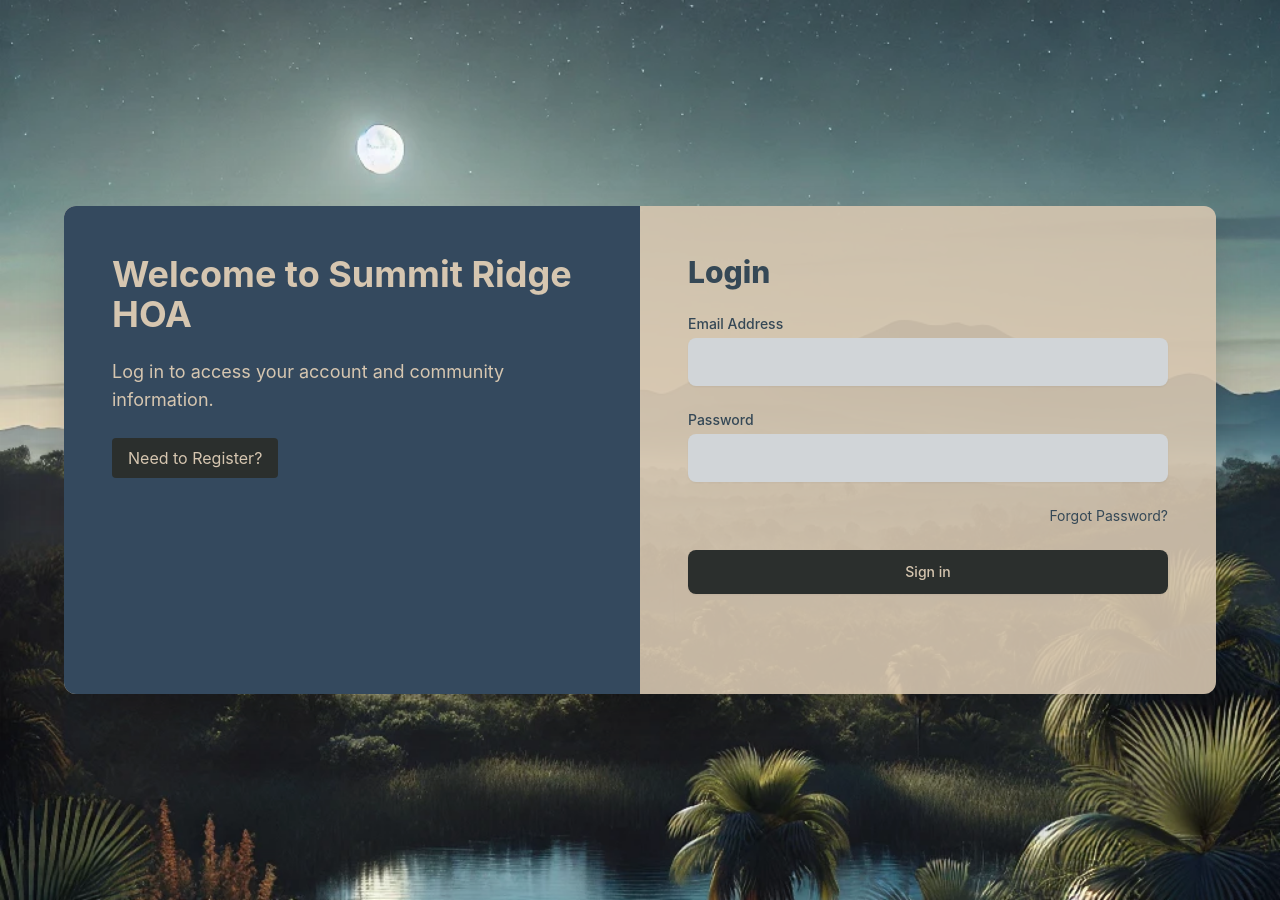
Login Component Tests › HOA-AUTH-IT-LOG-003: Temporary Password Flow - handles temporary password login
This screenshot has width=1280, height=900.
In the field named "Email Address": (928, 362) [688, 338, 1168, 386], type "test@example.com"
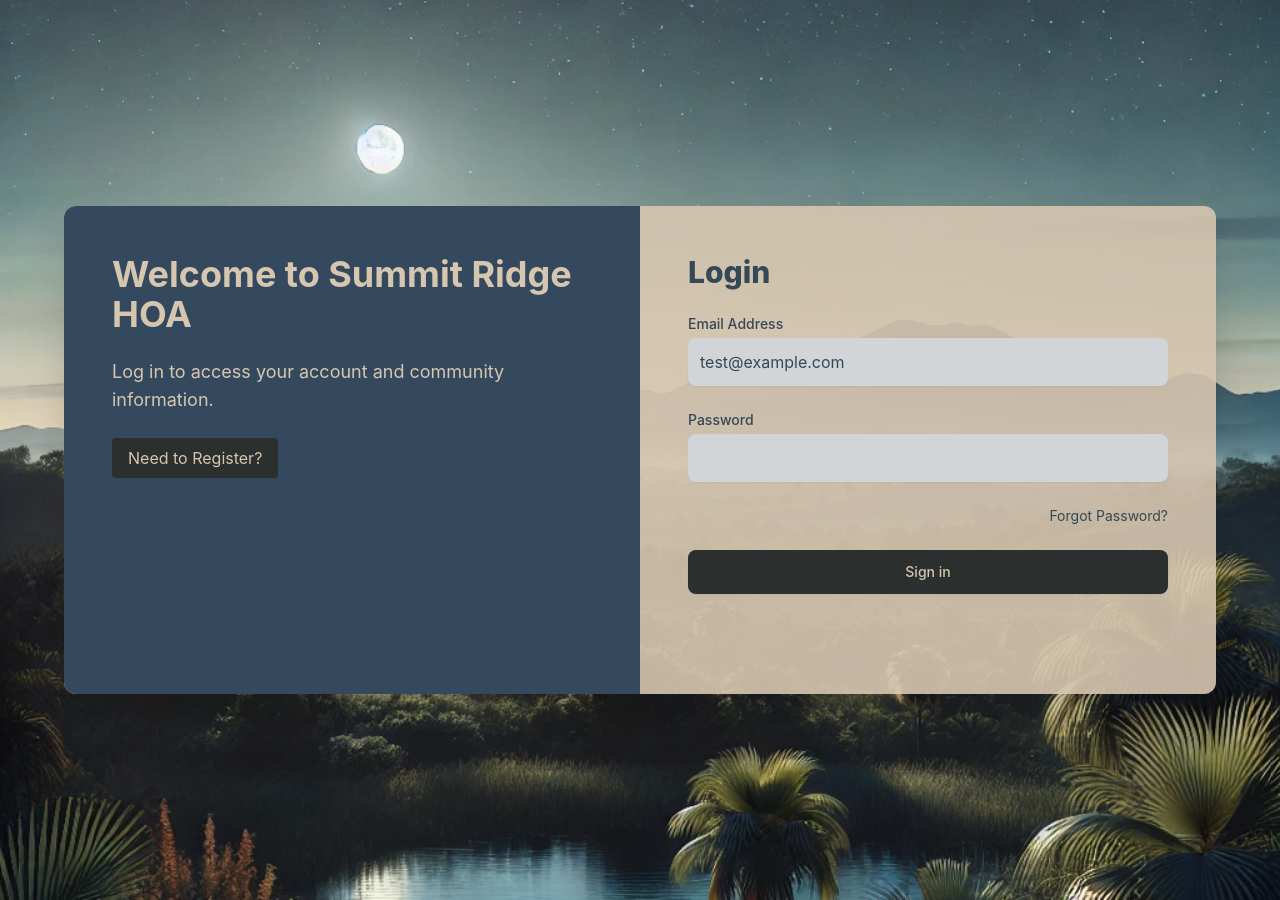
In the password field named "Password": (928, 458) [688, 434, 1168, 482], type "TempPass123!"
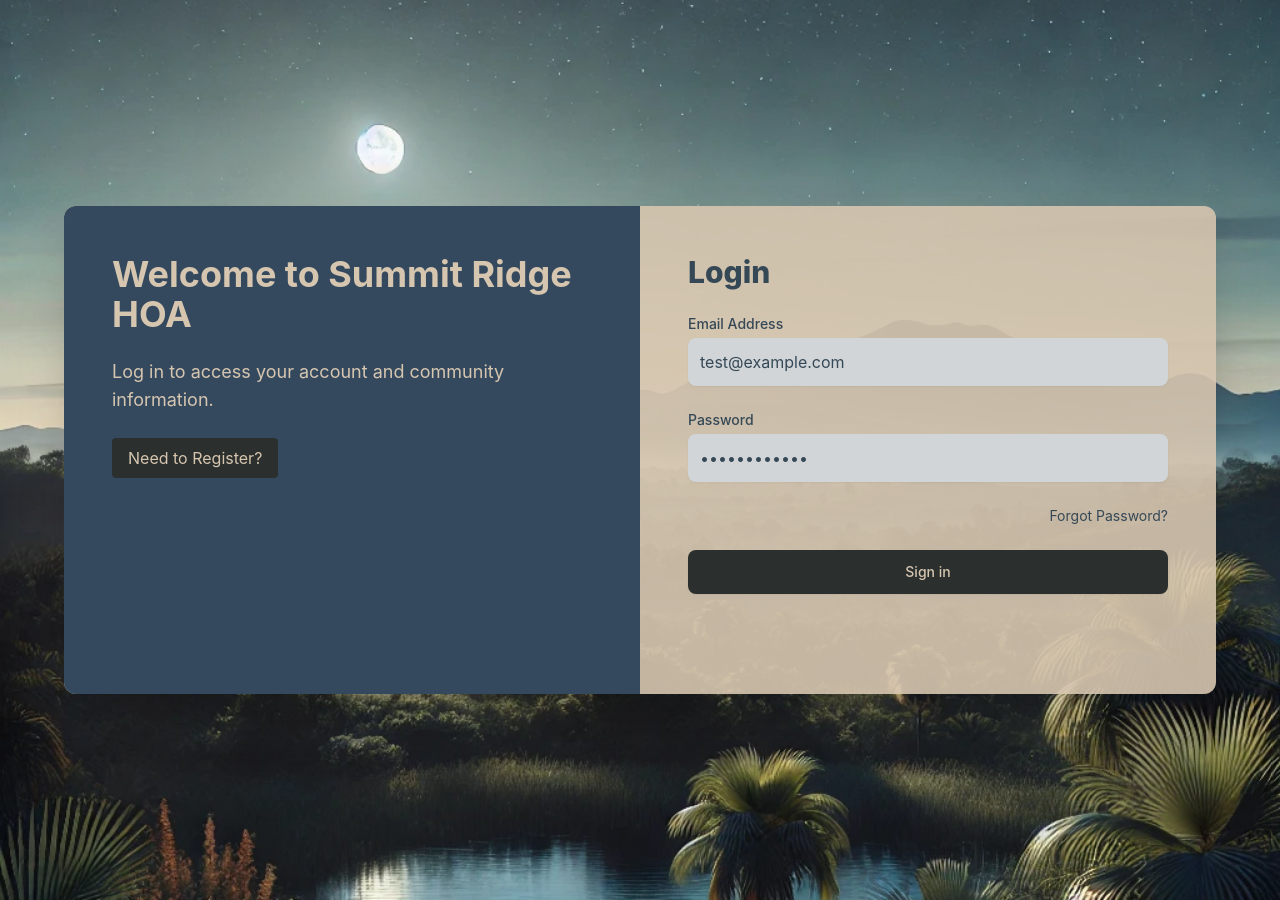
Submit the form with test id "login-form", box [688, 314, 1168, 594]
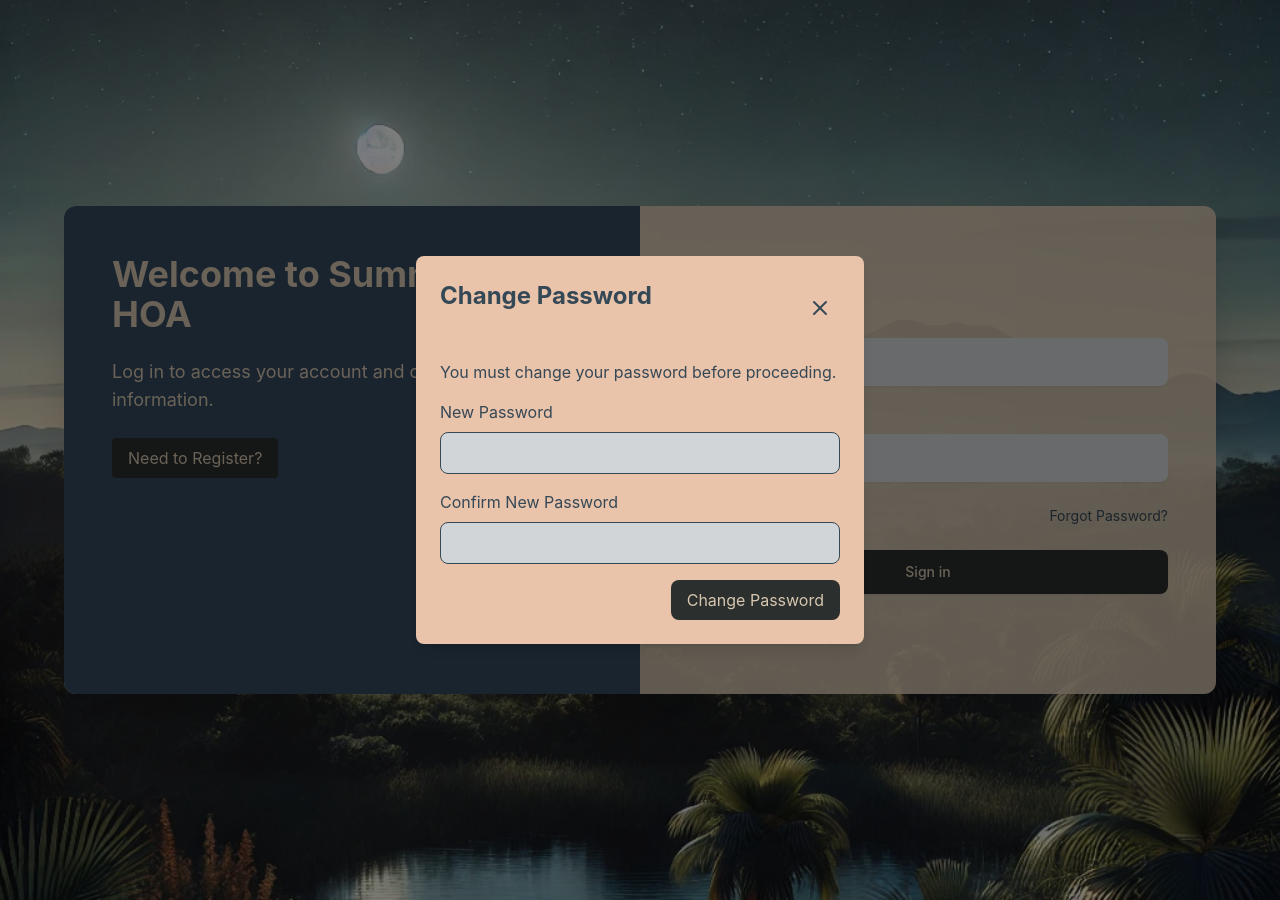
Now the text "You must change your password before proceeding." is shown, box [440, 360, 840, 384]
